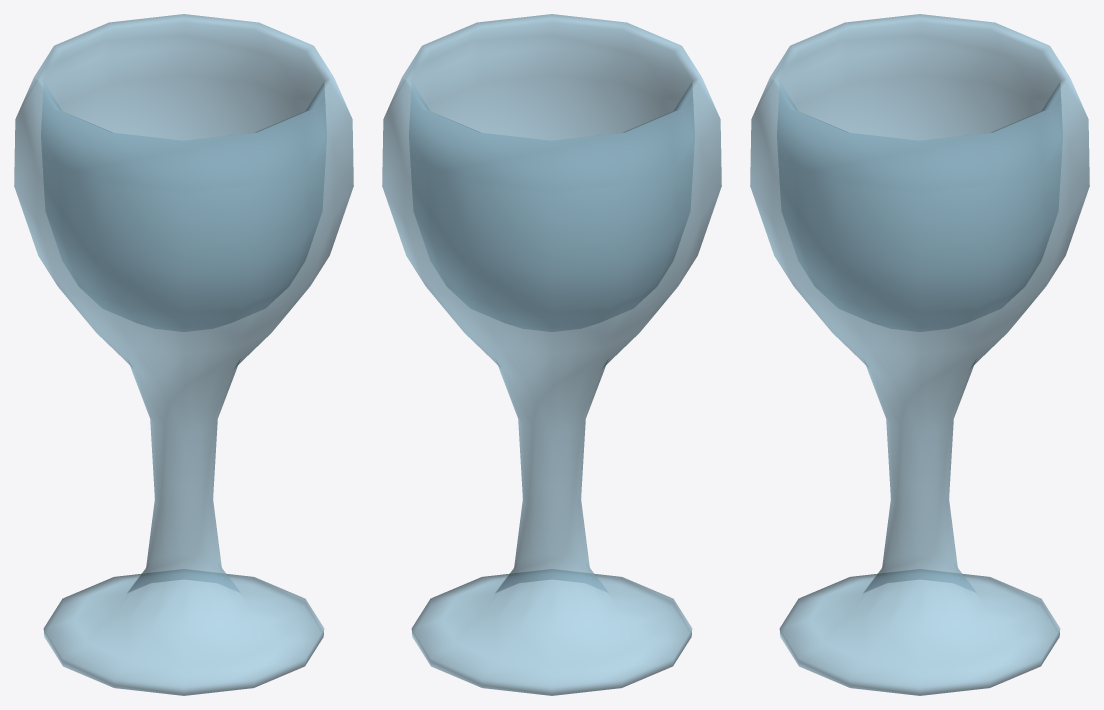
File: StimmedGlass.fbx
The picture shows the model from 3 angles, left to right: view 1: azimuth 30°, elevation 25°; view 2: azimuth 150°, elevation 25°; view 3: azimuth 270°, elevation 25°; orthographic projection.
Parts seen in each view (by area): view 1: Plane; view 2: Plane; view 3: Plane.
Part boxes in pixels (<box>): Plane: <box>14,14,353,695</box>; Plane: <box>382,14,721,695</box>; Plane: <box>750,14,1089,695</box>.
Bounding box in the file's own units: 2 × 3.69 × 2.
